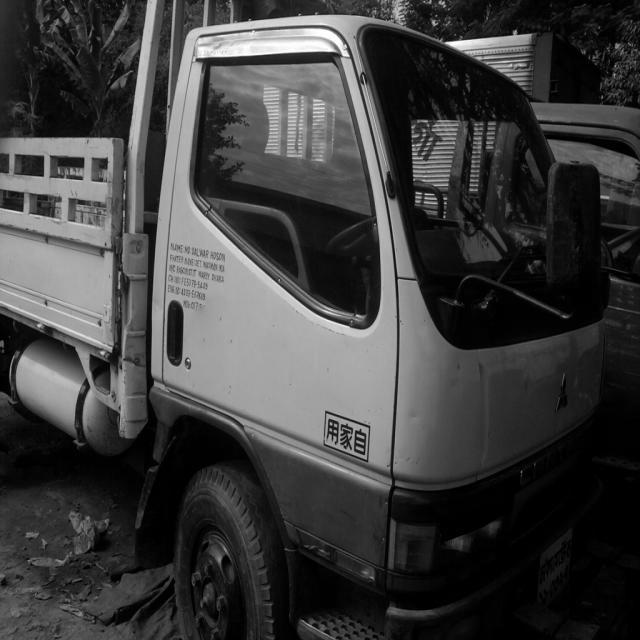truck: (128, 1, 628, 640)
